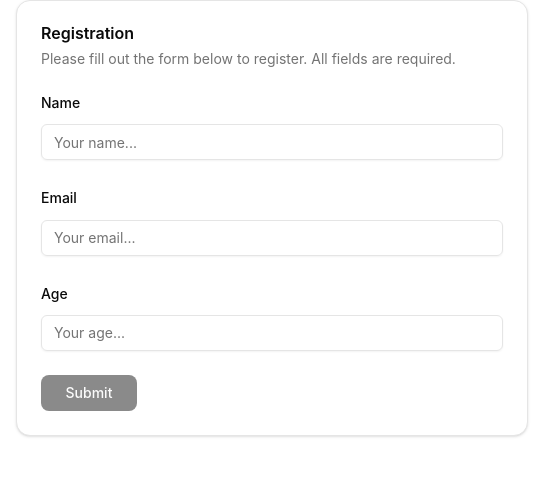
Scenario: RegisterForm › form display and validation › shows error when age is less than 18
This screenshot has width=545, height=482.
Type "17" into the number field labelled "Age" at (272, 333), box [41,315,503,351]
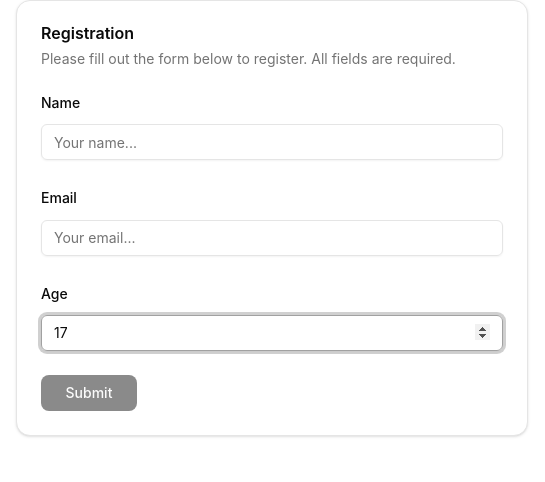
Press Tab
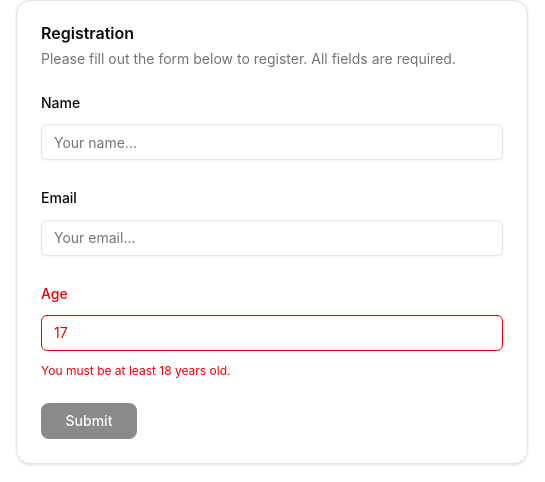
expect the text "You must be at least 18 years old." is shown: met, box [41,363,230,378]
